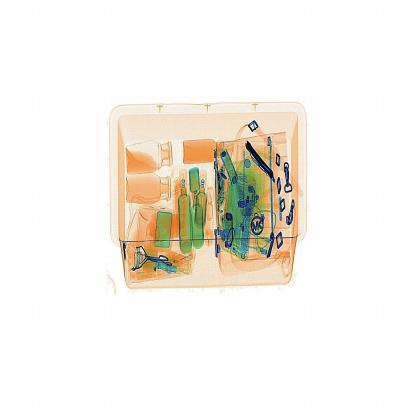knife: (242, 132, 282, 182)
